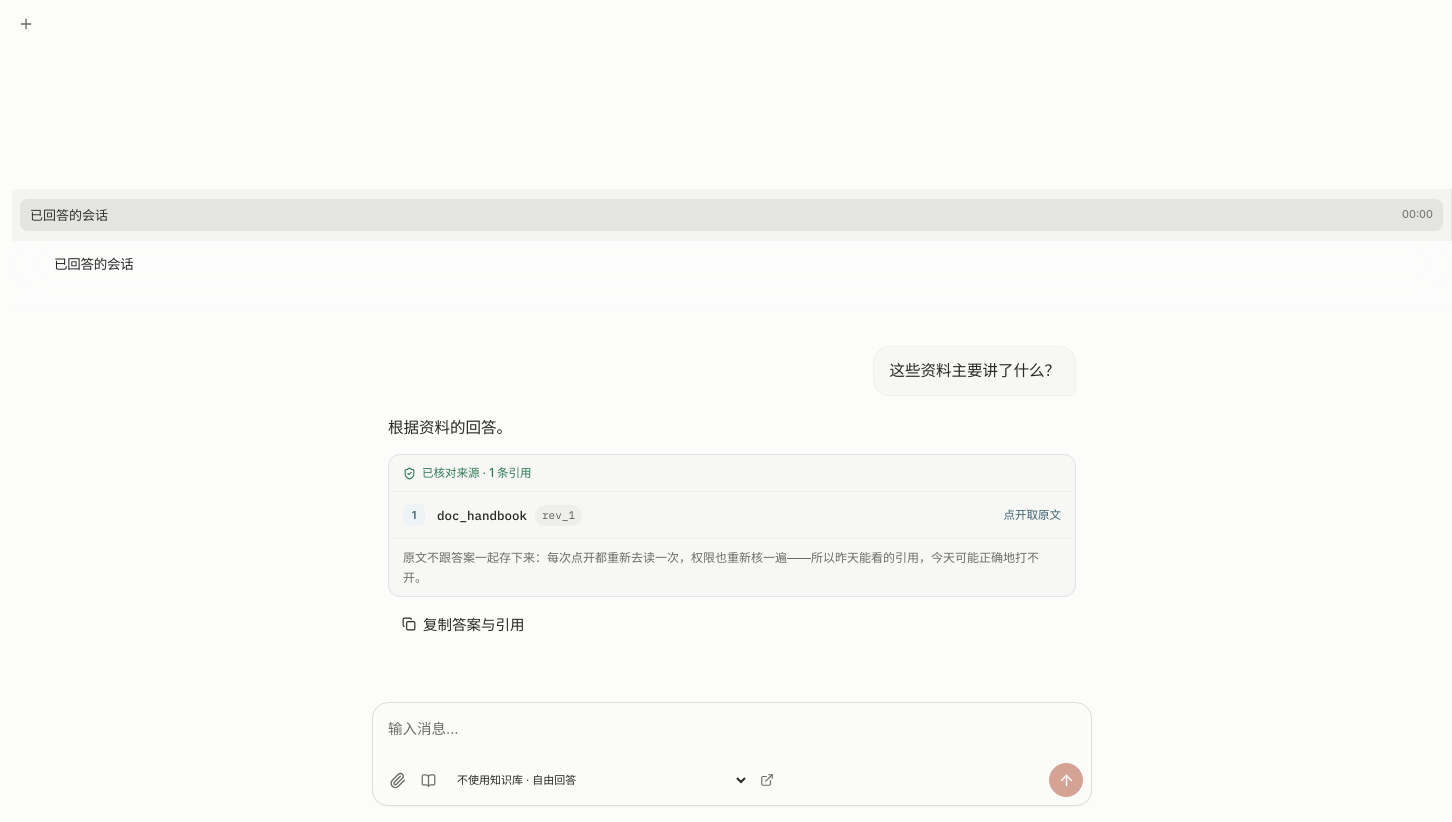
Opening the passage behind a citation › says the passage cannot be read, not that the citation is broken
This screenshot has width=1452, height=822.
Click the button "doc_handbook rev_1 点开取原文": (482, 515) [437,504,1061,526]
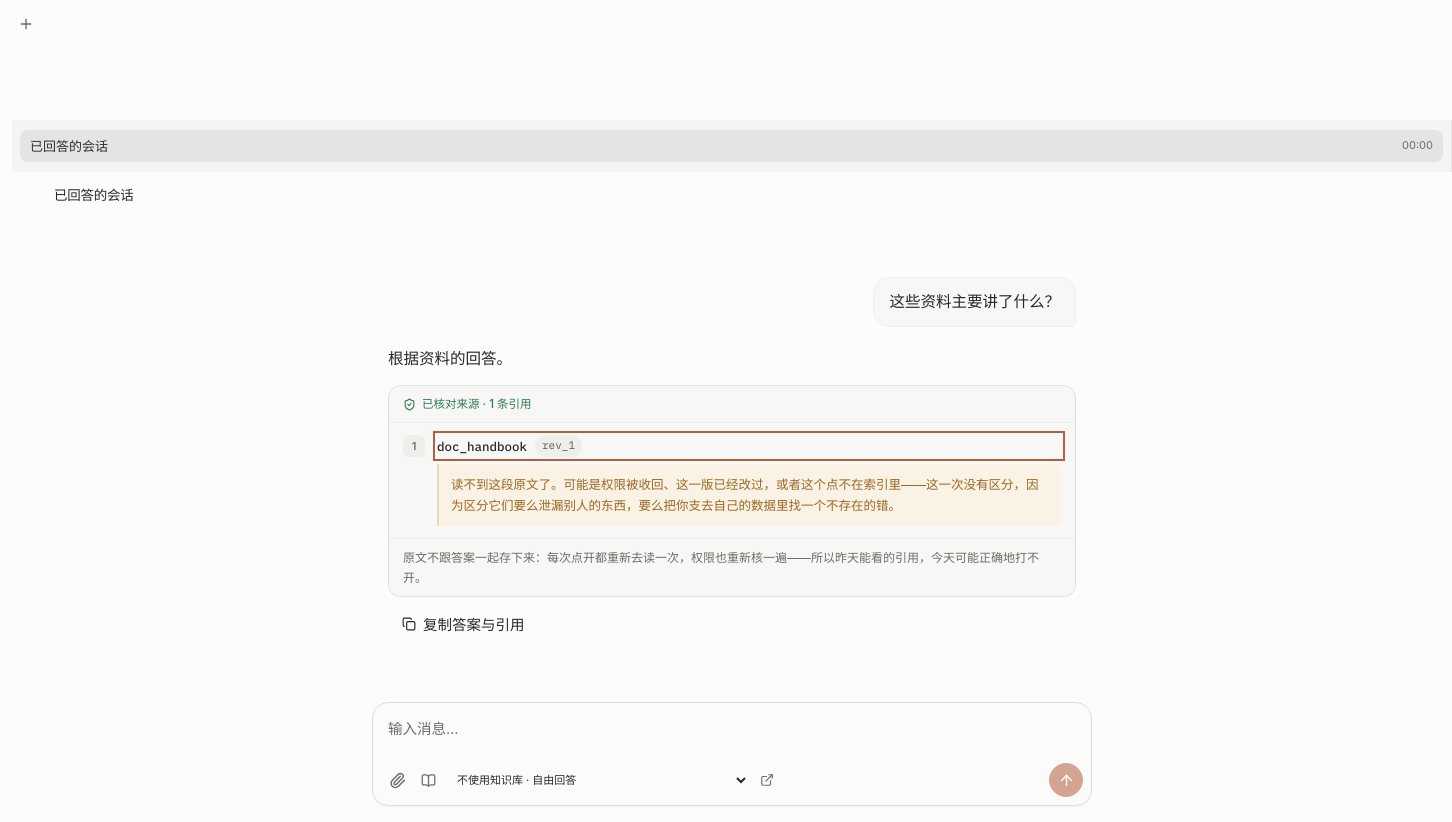
Now the text "这一次没有区分" is shown, box [451,477,1038,513]
